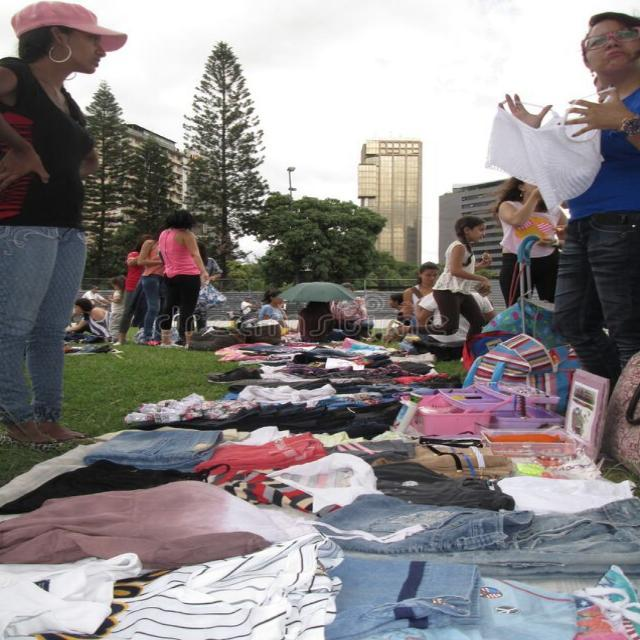clothes: (118, 436, 560, 625)
